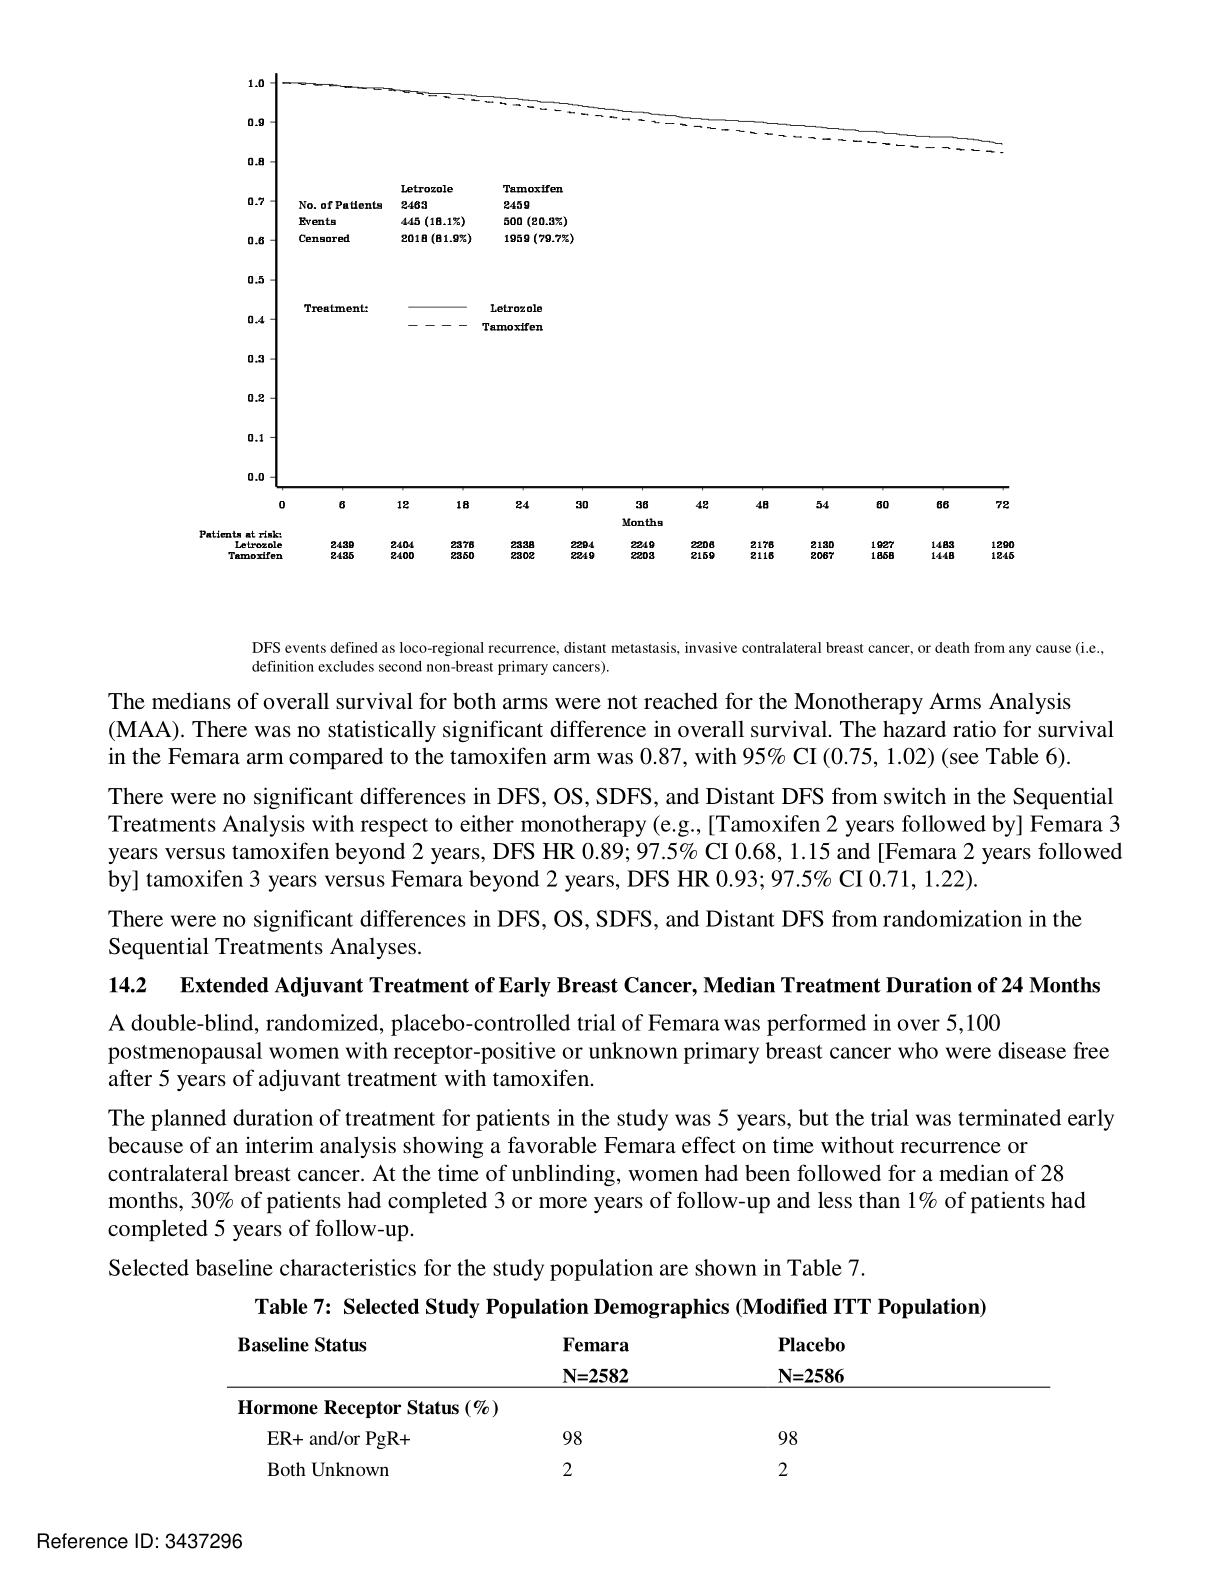nolines: (197, 528, 1020, 562)
partial_lined: (224, 1333, 1052, 1484)
